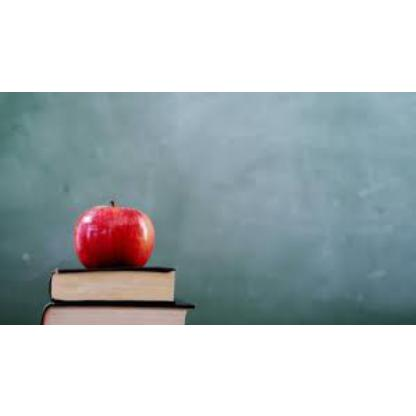apple: (81, 212, 161, 266)
